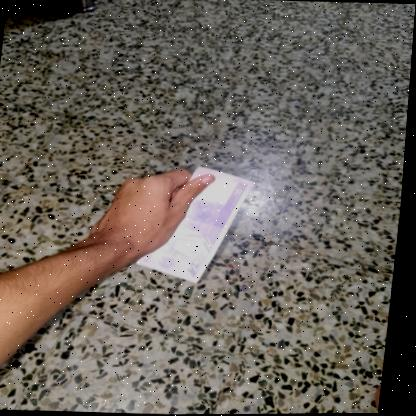vef_back: (137, 164, 260, 287)
